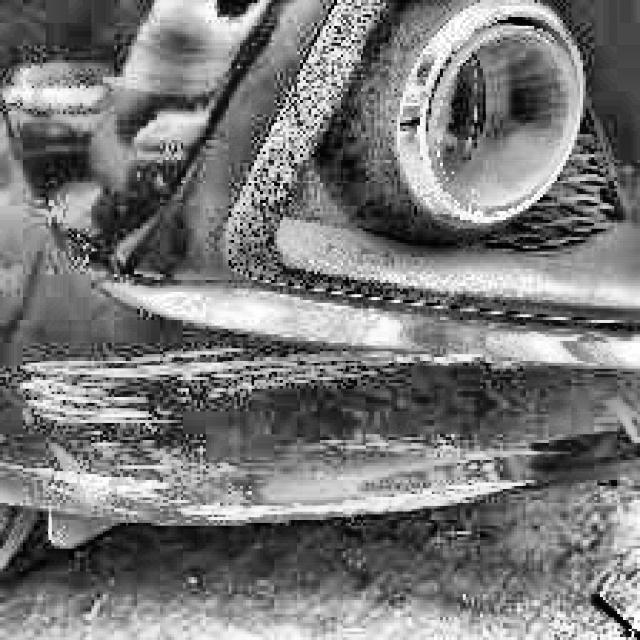bumper_scratch: (20, 352, 532, 514)
